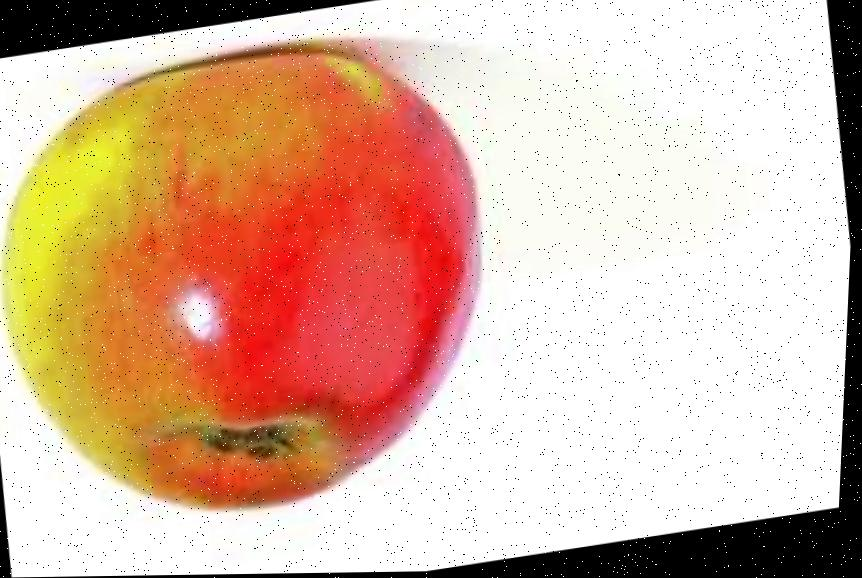HEALTHY: (0, 7, 555, 567)
